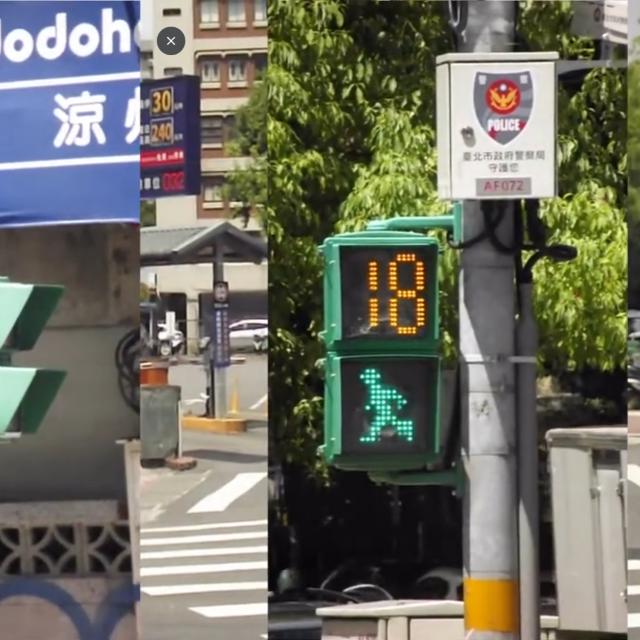green_light: (325, 238, 440, 466)
